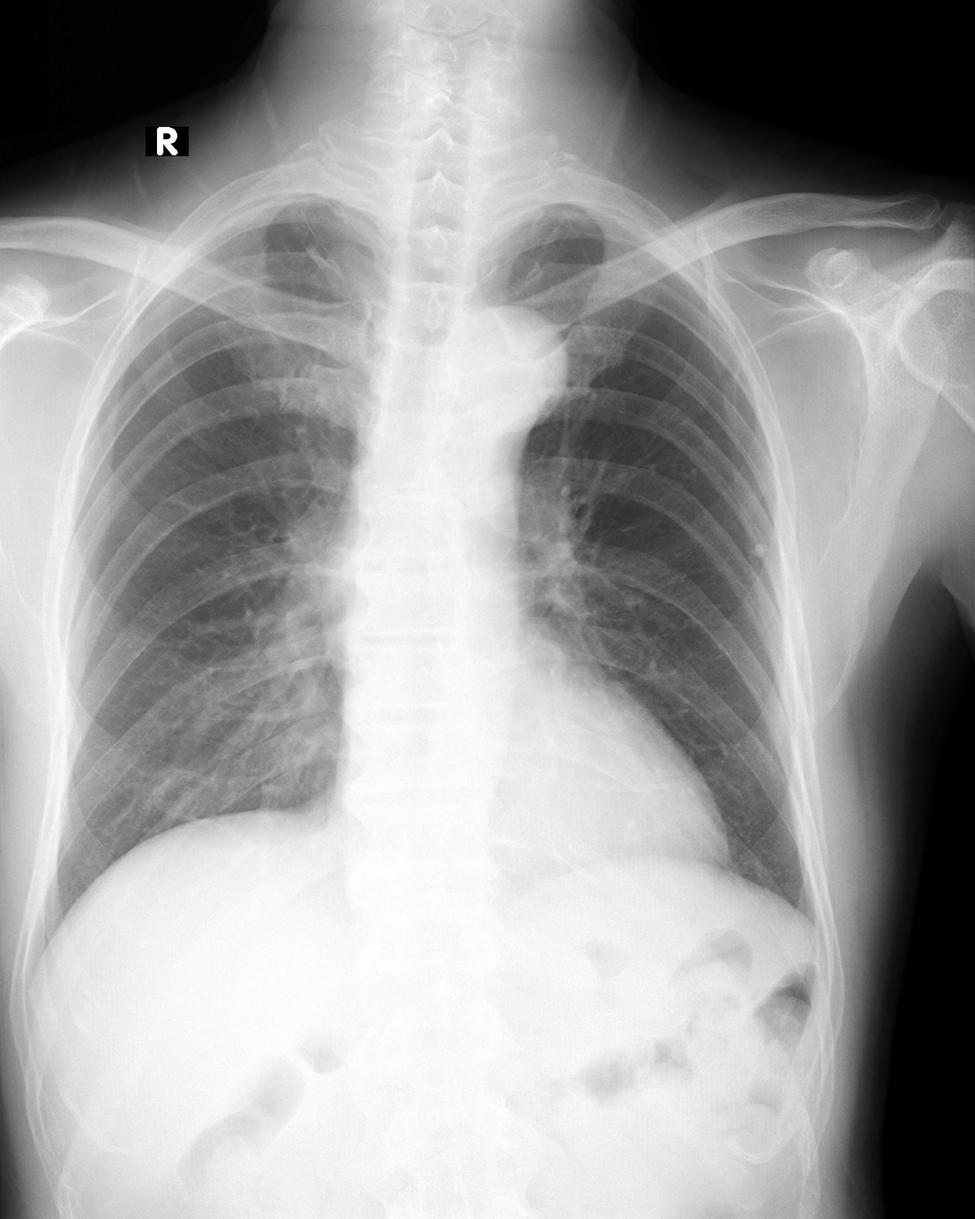Aortic enlargement: (442, 305, 566, 454)
